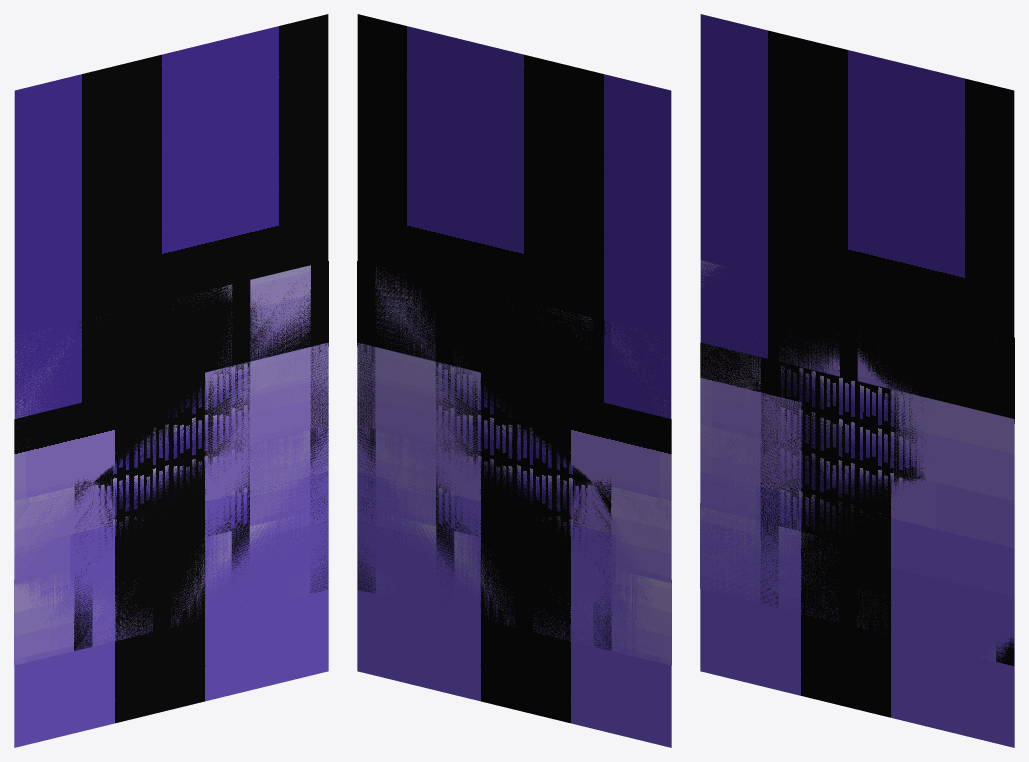
3 renders of one model, left to right at view 1: azimuth 30°, elevation 25°; view 2: azimuth 150°, elevation 25°; view 3: azimuth 330°, elevation 25°, orthographic.
Parts seen in each view (by area): view 1: ef_384; view 2: ef_384; view 3: ef_384.
Boxes of the visible parts, <box> form: ef_384: <box>14,14,328,747</box>; ef_384: <box>357,14,671,747</box>; ef_384: <box>700,14,1014,747</box>.
Size of the model in its own units: 1 by 2 by 0.
Materials: 1 (1 with a texture image).
